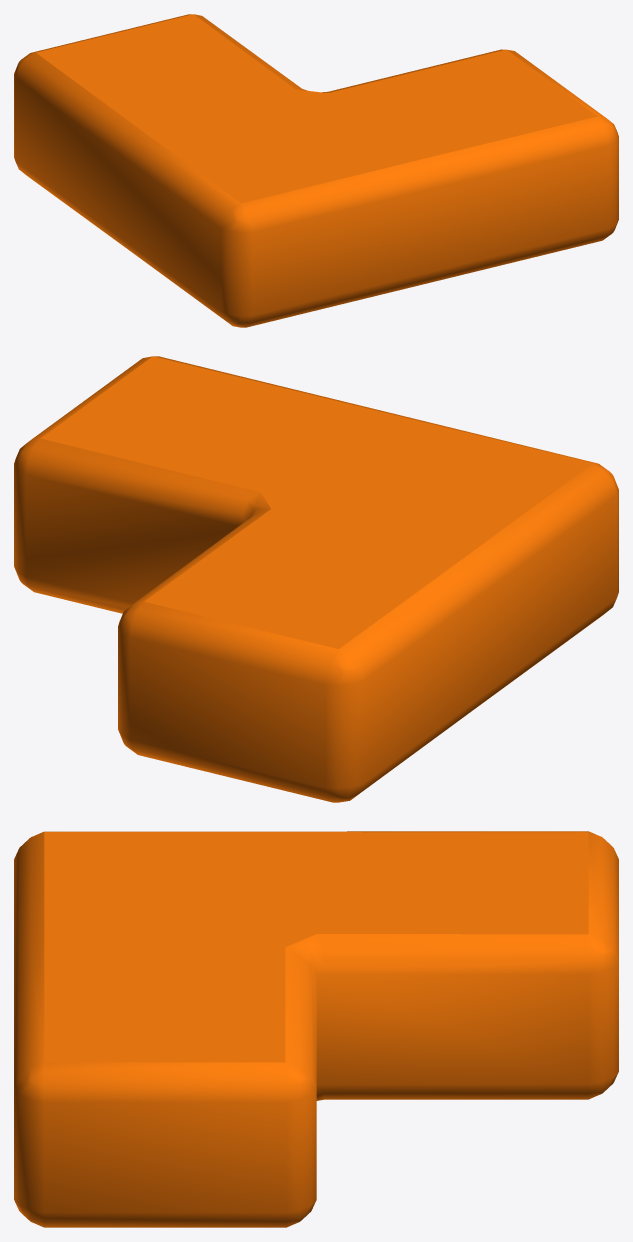
Rendered from LBlockYellow.fbx.
3 renders of one model, top to bottom at view 1: azimuth 30°, elevation 25°; view 2: azimuth 150°, elevation 25°; view 3: azimuth 270°, elevation 25°, orthographic. The views are drawn at different scales.
Visible parts, largest first — view 1: LBlock; view 2: LBlock; view 3: LBlock.
Part boxes in pixels (bbox=[...]): LBlock: bbox=[14, 14, 618, 327]; LBlock: bbox=[14, 356, 618, 802]; LBlock: bbox=[14, 831, 618, 1227].
Bounding box in the file's own units: 4 × 1.2 × 4.
